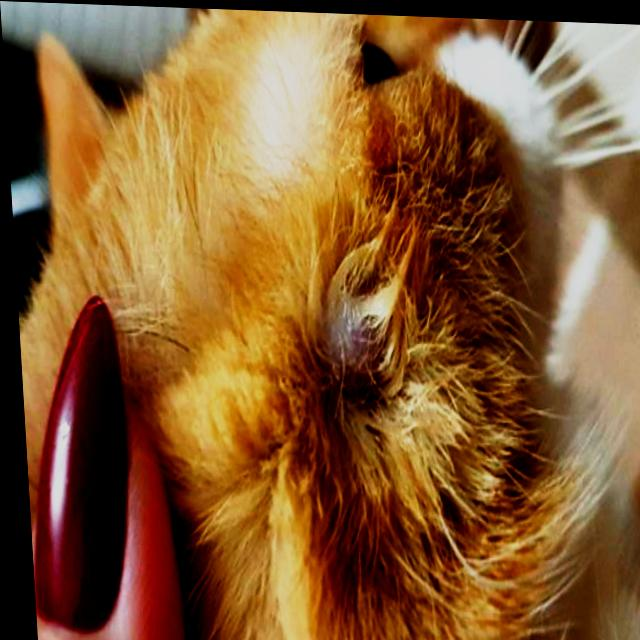lump_and_bump: (322, 286, 391, 402)
